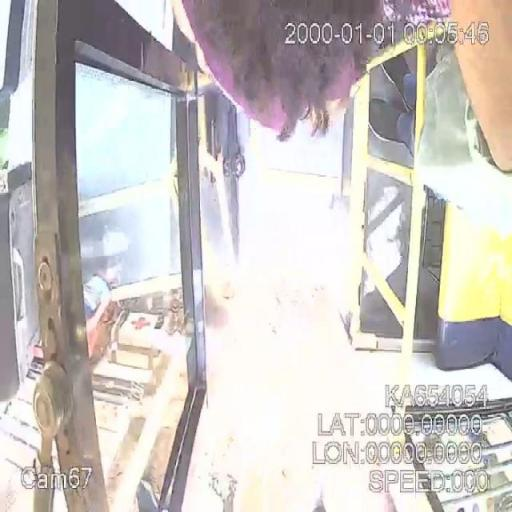persona: (30, 266, 120, 511), (82, 267, 119, 363)
